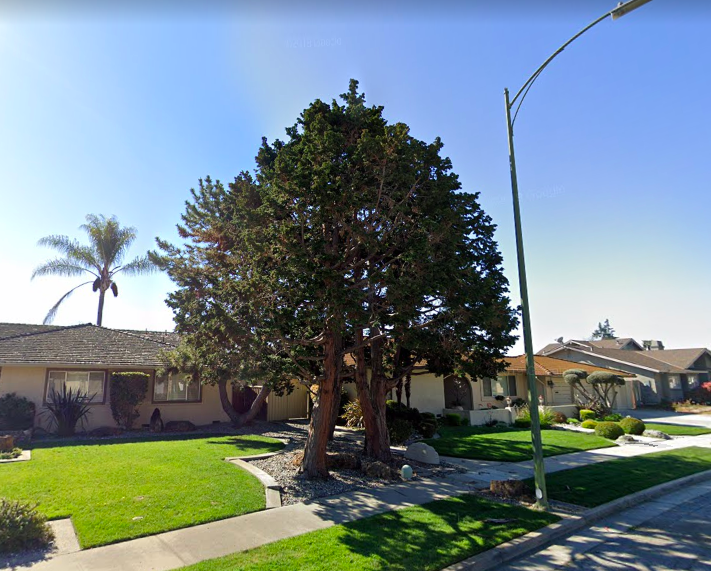tree: (147, 77, 519, 480)
